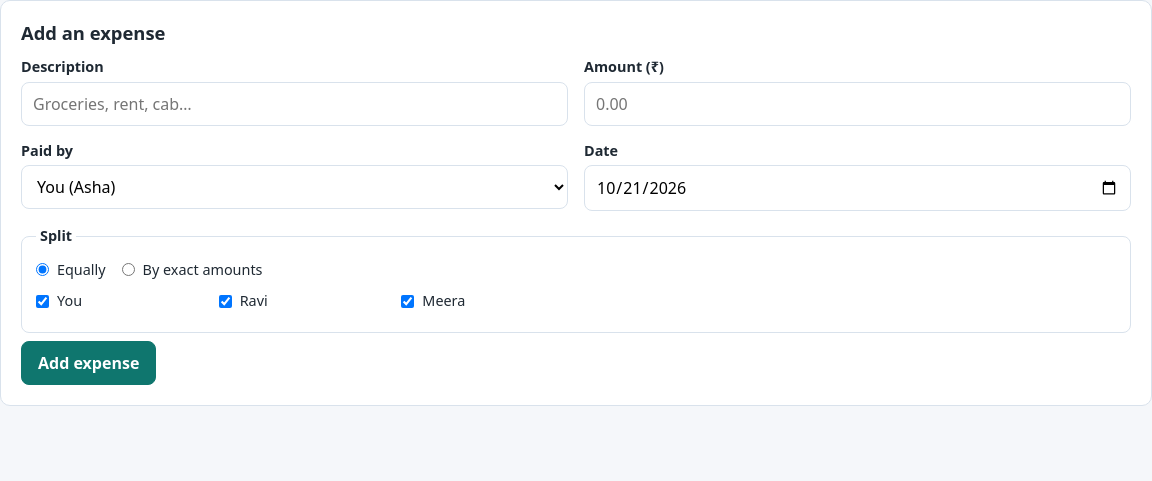
Scenario: ExpenseForm › sends an equal split in paise, with everyone ticked by default
The image size is (1152, 481).
Type "Groceries" into the field labelled "Description" at (294, 104), box [21, 82, 568, 126]
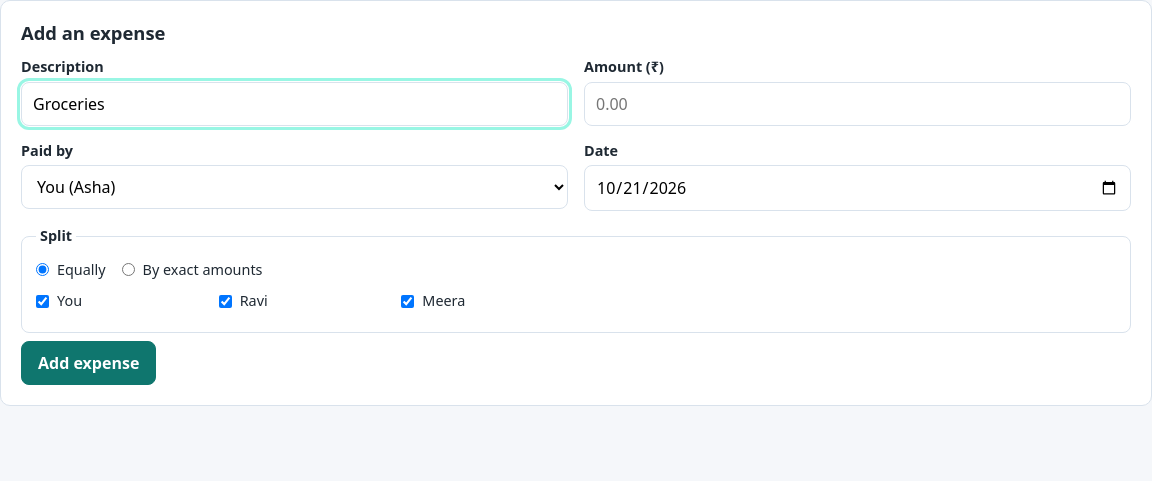
Type "1,000.50" into the field labelled "Amount (₹)" at (858, 104), box [584, 82, 1131, 126]
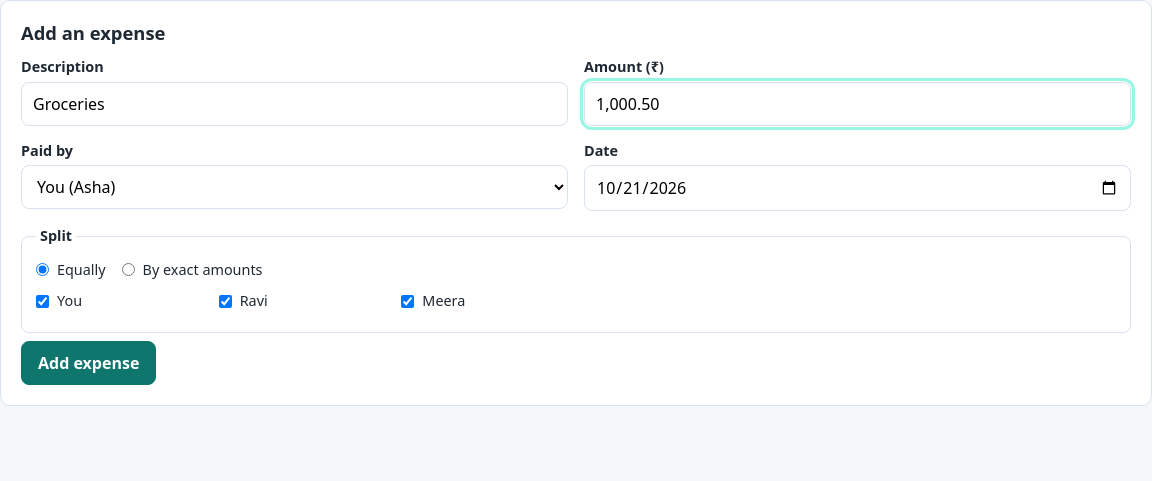
Click the checkbox labelled "Meera" at (408, 301), box [401, 295, 414, 308]
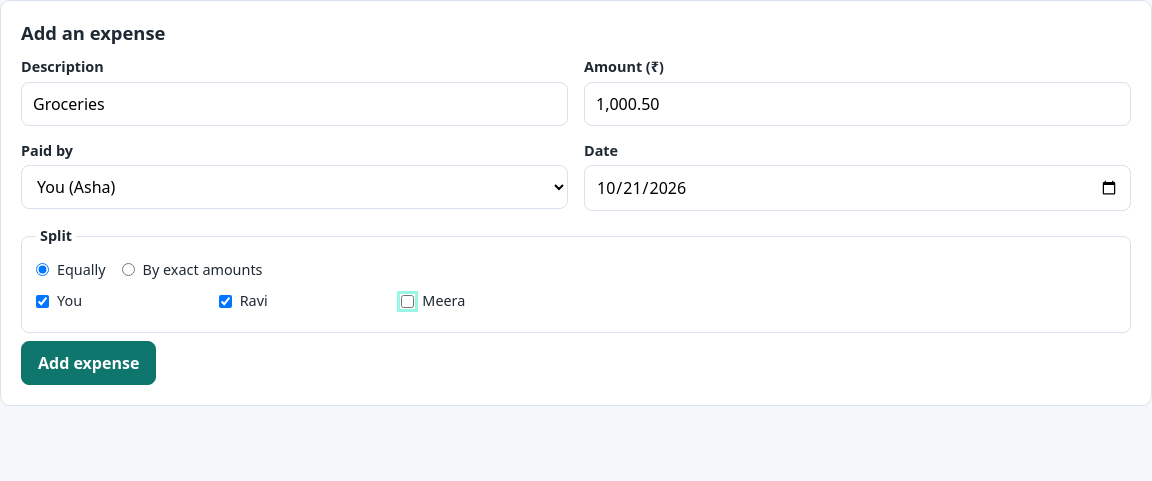
Click the button "Add expense" at (89, 363), box [21, 341, 156, 385]
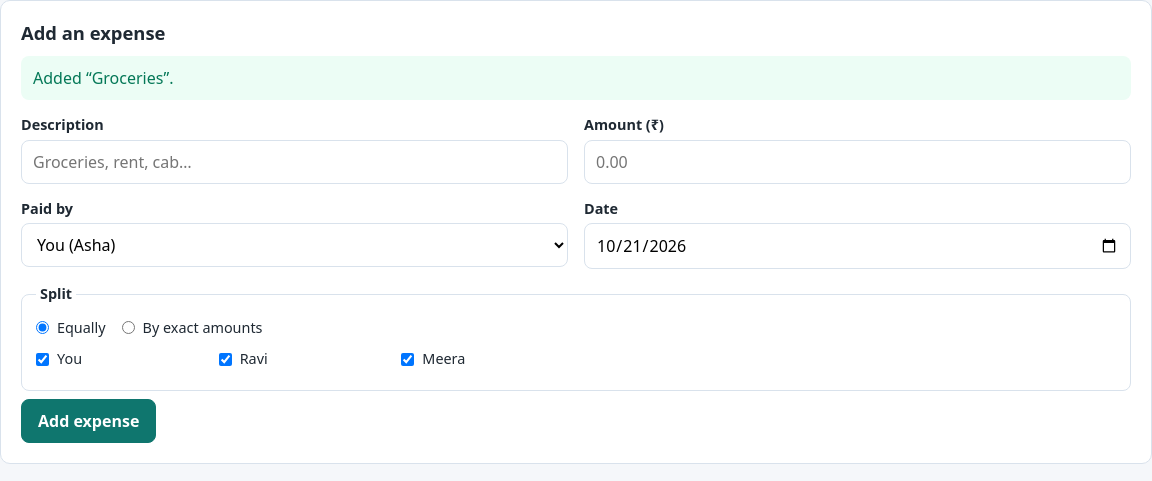
Expected: the message reads "Added “Groceries”.", [33, 67, 174, 89]
